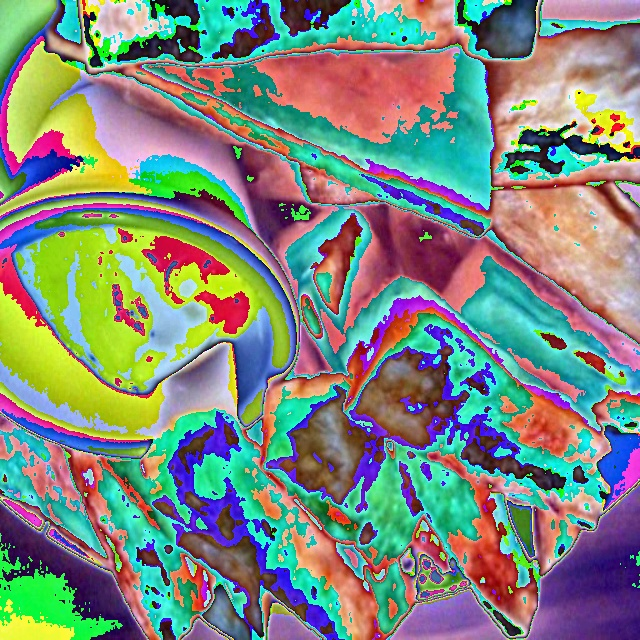background: (0, 0, 640, 640), (13, 169, 256, 396)
